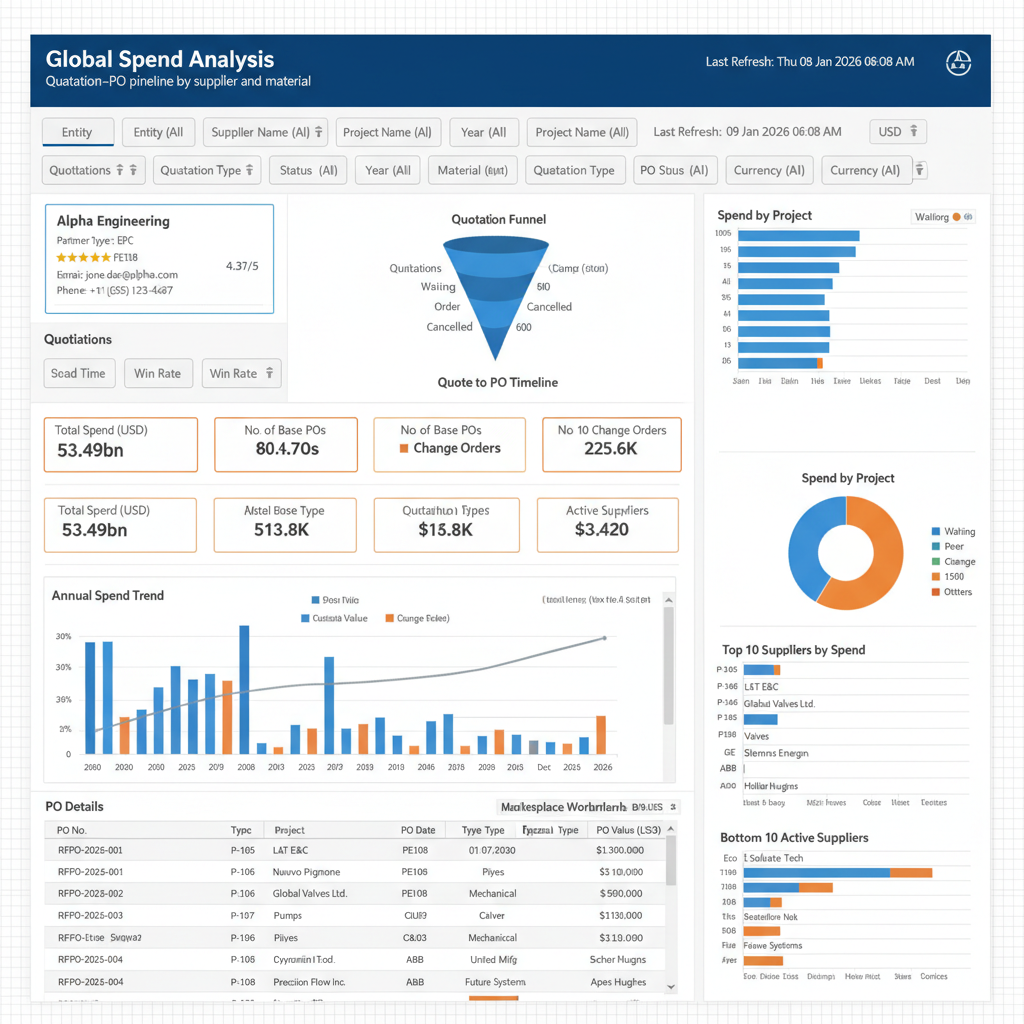

The page's visual inventory and layout, read from the dashboard file:
{"tool":"powerbi","page":{"name":"Global Spend Analysis","canvas":[1280,720],"ordinal":1},"visuals":[{"type":"card","box":[20,20,180,100],"z":0},{"type":"card","box":[210,20,180,100],"z":0},{"type":"card","box":[400,20,180,100],"z":0},{"type":"card","box":[590,20,180,100],"z":0},{"type":"card","box":[780,20,180,100],"z":0},{"type":"card","box":[970,20,180,100],"z":0},{"type":"lineChart","box":[20,140,700,280],"z":0},{"type":"donutChart","box":[740,140,400,280],"z":0},{"type":"barChart","box":[20,440,550,260],"z":0},{"type":"barChart","box":[590,440,550,260],"z":0}]}

Visuals, with their boxes on the page's 1280x720 design canvas (x1, y1, x2, y2). These are canvas units, not pixel positions in the 1024x1024 screenshot, which may show the page scaled, cropped or inside an application window:
card: 20,20,200,120
card: 210,20,390,120
card: 400,20,580,120
card: 590,20,770,120
card: 780,20,960,120
card: 970,20,1150,120
lineChart: 20,140,720,420
donutChart: 740,140,1140,420
barChart: 20,440,570,700
barChart: 590,440,1140,700
